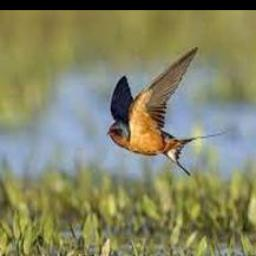Swallow: (107, 47, 225, 177)
